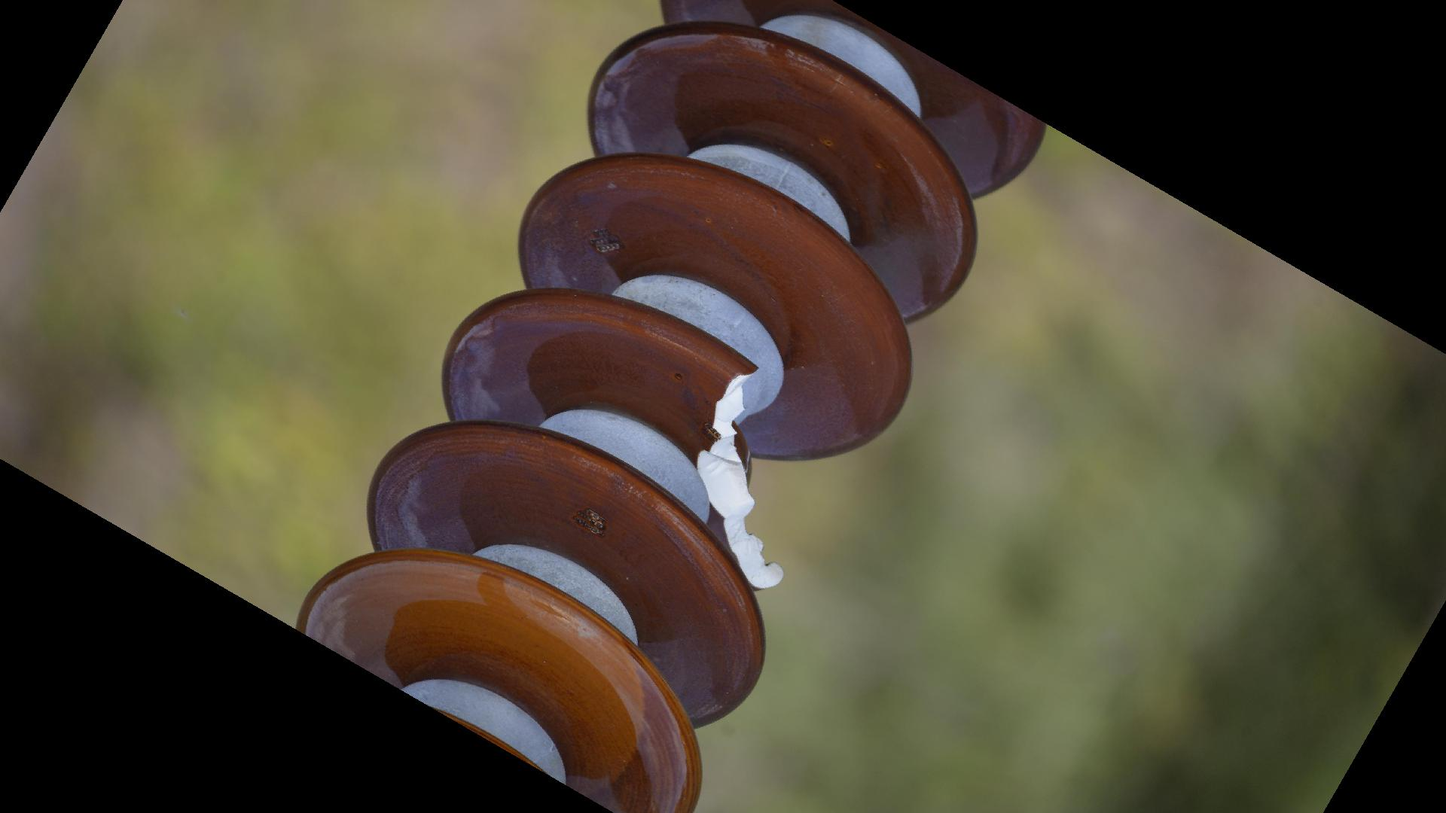insulator: (285, 7, 1057, 813)
insulator_breakage: (690, 352, 794, 602)
